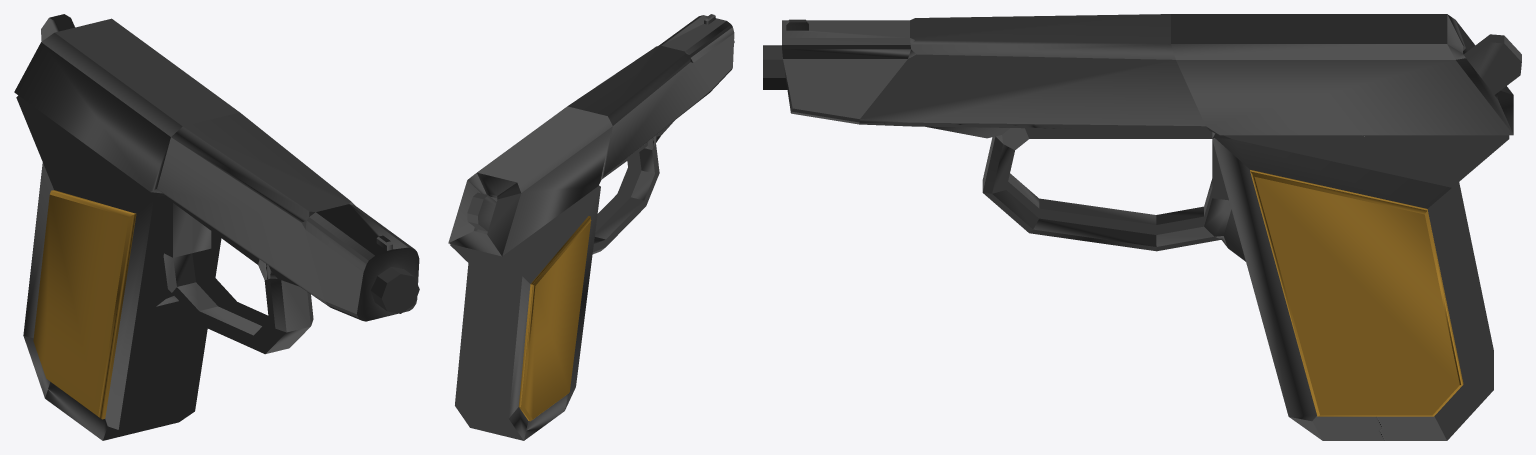
The model's file is makarov.fbx.
The picture shows the model from 3 angles, left to right: view 1: azimuth 30°, elevation 25°; view 2: azimuth 150°, elevation 25°; view 3: azimuth 270°, elevation 25°; orthographic projection. The views are drawn at different scales.
Visible parts, largest first — view 1: Cube, Cube_1, ululu, Cylinder, Cube_2; view 2: Cube_1, Cube, ululu, Cube_2; view 3: Cube, Cube_1, ululu, Cube_2, Cylinder.
Boxes of the visible parts, <box> form: Cube: <box>14,18,419,321</box>; Cube_1: <box>16,95,221,440</box>; ululu: <box>156,200,313,354</box>; Cylinder: <box>370,267,419,313</box>; Cube_2: <box>41,14,74,41</box>; Cube_1: <box>450,185,600,440</box>; Cube: <box>448,14,734,256</box>; ululu: <box>592,120,674,254</box>; Cube_2: <box>467,192,496,231</box>; Cube: <box>782,14,1513,135</box>; Cube_1: <box>1212,132,1509,440</box>; ululu: <box>925,126,1245,261</box>; Cube_2: <box>1463,34,1521,94</box>; Cylinder: <box>763,45,787,89</box>.
Bounding box in the file's own units: 115 × 464 × 799.
